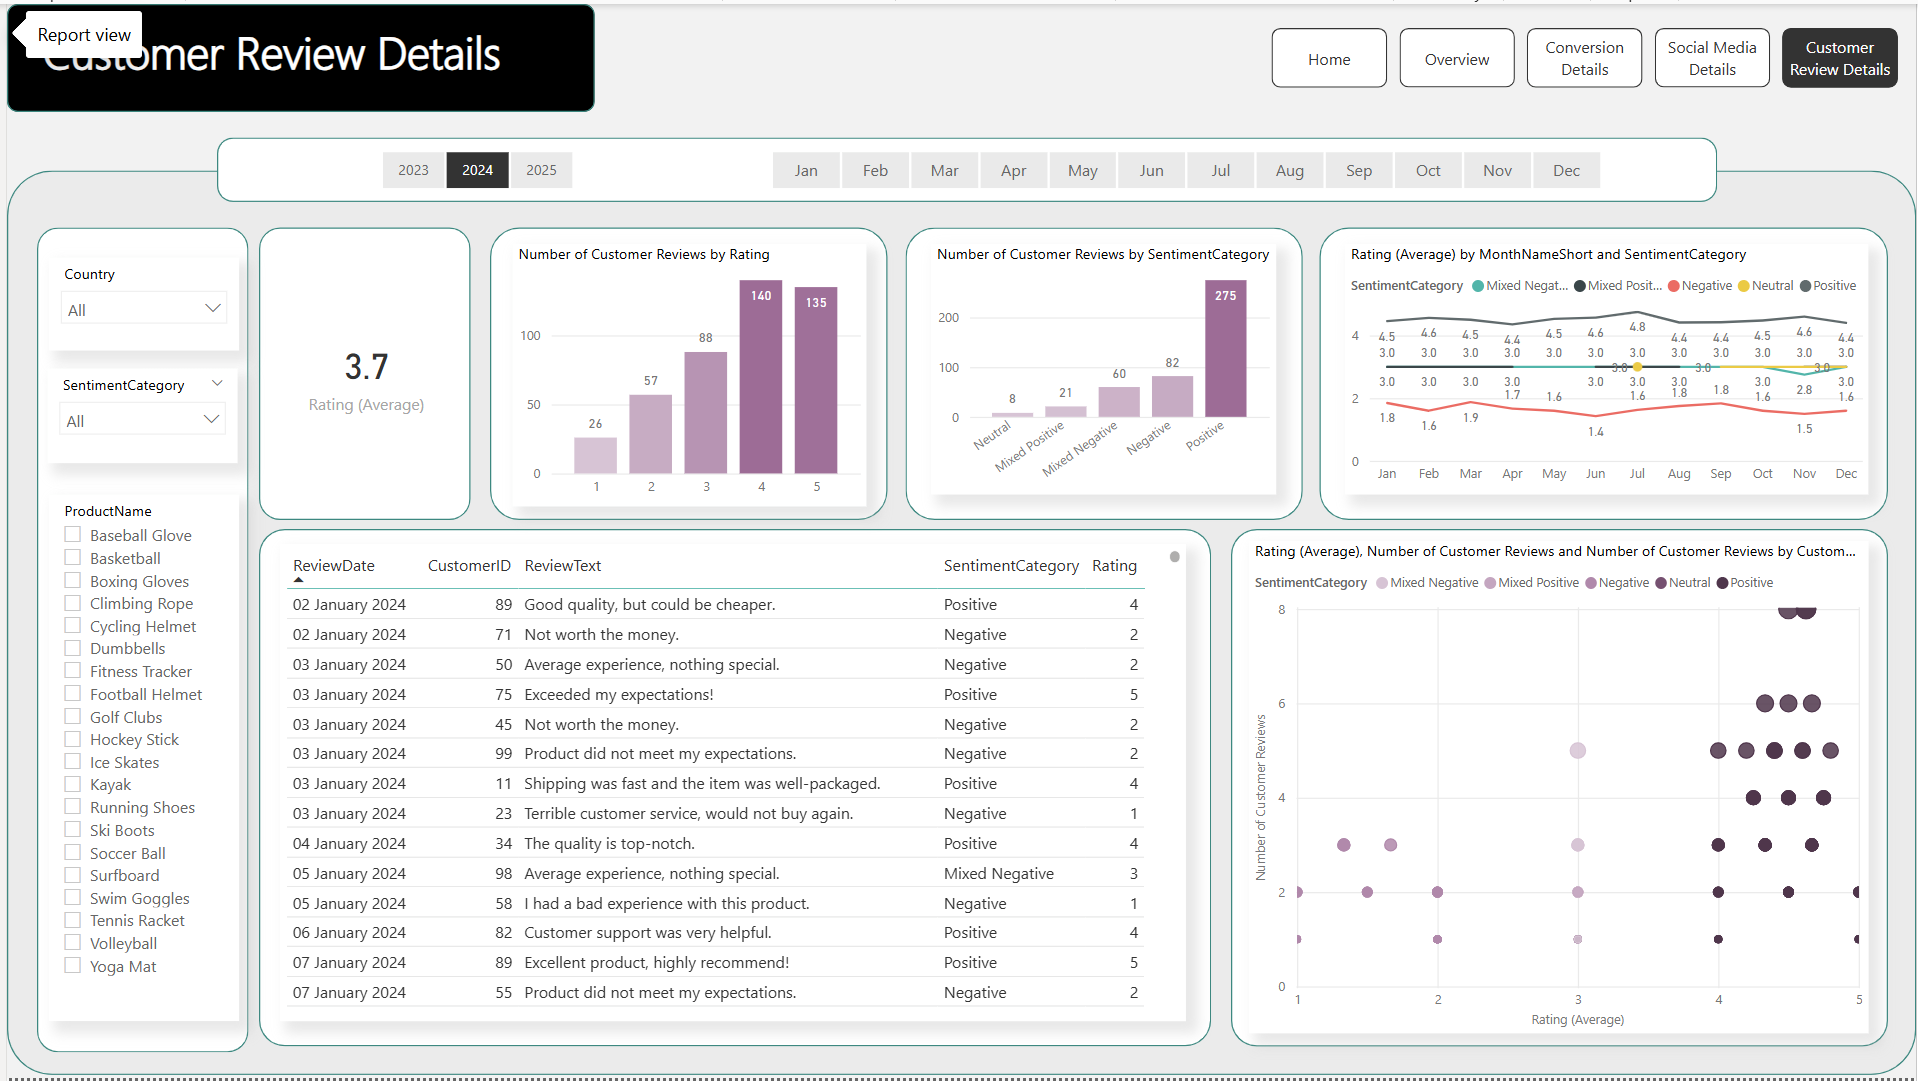

The page's visual inventory and layout, read from the dashboard file:
{"tool":"powerbi","page":{"name":"Customer Review Details","canvas":[1600,900],"ordinal":4},"visuals":[{"type":"shape","box":[0,139.6,1600.4,758.1],"z":0},{"type":"shape","box":[176,111.9,1257.2,54.1],"z":1000},{"type":"shape","box":[25.1,187.3,177.3,691.5],"z":2000},{"type":"shape","box":[211.2,187.3,177.3,245.2],"z":3000},{"type":"shape","box":[211.2,440,798.3,433.7],"z":4000},{"type":"shape","box":[404.8,187.3,333.2,245.2],"z":5000},{"type":"shape","box":[753.1,187.3,333,245.2],"z":6000},{"type":"shape","box":[1100.1,187.3,476.5,245.2],"z":7000},{"type":"shape","box":[1025.9,440,550.7,433.7],"z":8000},{"type":"slicer","fields":{"Values":["dim_products.ProductName"]},"box":[35.2,411.1,159.7,441.3],"z":9000},{"type":"card","fields":{"Values":["_Calculations.Rating (Average)"]},"box":[238.9,221.3,124.5,178.5],"z":10000},{"type":"slicer","fields":{"Values":["Calendar.MonthNameShort"]},"box":[616,116.9,743,44],"z":11000},{"type":"lineChart","fields":{"Category":["Calendar.MonthNameShort"],"Y":["_Calculations.Rating (Average)"],"Series":["fact_customer_reviews_with_sentiment.SentimentCategory"]},"box":[1121.4,201.2,438.8,210],"z":12000},{"type":"slicer","fields":{"Values":["Calendar.Year"]},"box":[289.2,116.9,208.7,44],"z":13000},{"type":"tableEx","fields":{"Values":["fact_customer_reviews_with_sentiment.ReviewDate","fact_customer_reviews_with_sentiment.CustomerID","fact_customer_reviews_with_sentiment.ReviewText","fact_customer_reviews_with_sentiment.SentimentCategory","fact_customer_reviews_with_sentiment.Rating"]},"box":[228.8,452.6,759.4,399.8],"z":14000},{"type":"columnChart","fields":{"Category":["fact_customer_reviews_with_sentiment.Rating"],"Y":["_Calculations.Number of Customer Reviews"]},"box":[423.7,201.2,296.7,220],"z":15000},{"type":"columnChart","fields":{"Category":["fact_customer_reviews_with_sentiment.SentimentCategory"],"Y":["_Calculations.Number of Customer Reviews"]},"box":[774.4,201.2,289.2,210],"z":16000},{"type":"slicer","fields":{"Values":["dim_customers.Country"]},"box":[35.2,212.5,159.7,77.9],"z":17000},{"type":"slicer","fields":{"Values":["fact_customer_reviews_with_sentiment.SentimentCategory"]},"box":[33.9,305.5,159.7,79.2],"z":18000},{"type":"scatterChart","fields":{"Category":["dim_customers.CustomerID"],"Series":["fact_customer_reviews_with_sentiment.SentimentCategory"],"X":["_Calculations.Rating (Average)"],"Y":["_Calculations.Number of Customer Reviews"],"Size":["_Calculations.Number of Customer Reviews"]},"box":[1041,450.1,519.2,412.4],"z":19000},{"type":"shape","box":[0,0,492.8,90.5],"z":20000},{"type":"pageNavigator","box":[1059.8,20.1,526.8,50.3],"z":21000},{"type":"textbox","box":[25.1,8.8,407.3,71.7],"z":22000}]}

Visuals, with their boxes on the page's 1600x900 design canvas (x1, y1, x2, y2). These are canvas units, not pixel positions in the 1918x1081 screenshot, which may show the page scaled, cropped or inside an application window:
shape: box=[0, 140, 1600, 898]
shape: box=[176, 112, 1433, 166]
shape: box=[25, 187, 202, 879]
shape: box=[211, 187, 388, 432]
shape: box=[211, 440, 1010, 874]
shape: box=[405, 187, 738, 432]
shape: box=[753, 187, 1086, 432]
shape: box=[1100, 187, 1577, 432]
shape: box=[1026, 440, 1577, 874]
slicer - dim_products.ProductName: box=[35, 411, 195, 852]
card - _Calculations.Rating (Average): box=[239, 221, 363, 400]
slicer - Calendar.MonthNameShort: box=[616, 117, 1359, 161]
lineChart - Calendar.MonthNameShort x _Calculations.Rating (Average): box=[1121, 201, 1560, 411]
slicer - Calendar.Year: box=[289, 117, 498, 161]
tableEx - fact_customer_reviews_with_sentiment.ReviewDate x fact_customer_reviews_with_sentiment.CustomerID: box=[229, 453, 988, 852]
columnChart - fact_customer_reviews_with_sentiment.Rating x _Calculations.Number of Customer Reviews: box=[424, 201, 720, 421]
columnChart - fact_customer_reviews_with_sentiment.SentimentCategory x _Calculations.Number of Customer Reviews: box=[774, 201, 1064, 411]
slicer - dim_customers.Country: box=[35, 212, 195, 290]
slicer - fact_customer_reviews_with_sentiment.SentimentCategory: box=[34, 306, 194, 385]
scatterChart - dim_customers.CustomerID x fact_customer_reviews_with_sentiment.SentimentCategory: box=[1041, 450, 1560, 862]
shape: box=[0, 0, 493, 90]
pageNavigator: box=[1060, 20, 1587, 70]
textbox: box=[25, 9, 432, 80]
